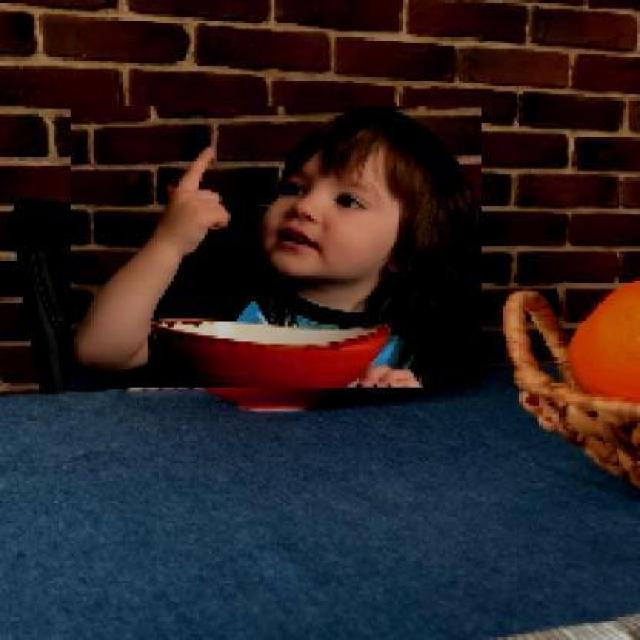child: (69, 107, 482, 390)
